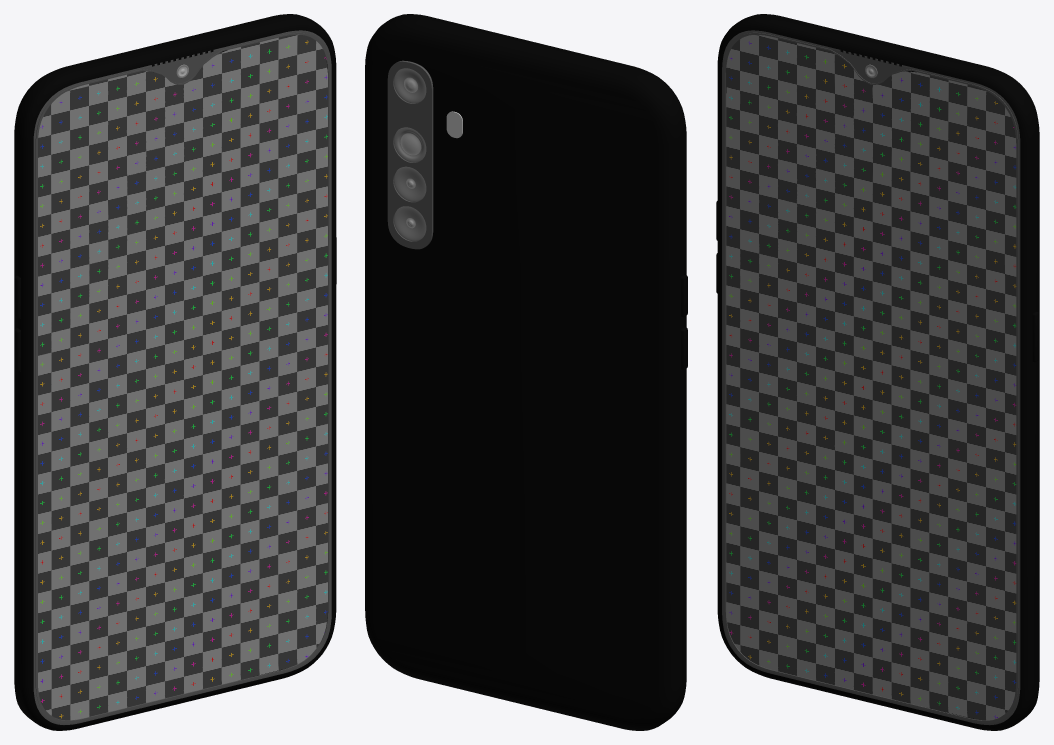
Rendered from phone _2.glb.
The picture shows the model from 3 angles, left to right: view 1: azimuth 30°, elevation 25°; view 2: azimuth 150°, elevation 25°; view 3: azimuth 330°, elevation 25°; orthographic projection.
Parts seen in each view (by area): view 1: Phone_0; view 2: Phone_0; view 3: Phone_0.
Part boxes in pixels (x1,y1,x2,y2): Phone_0: (14,14,336,730); Phone_0: (365,14,687,730); Phone_0: (716,14,1039,730).
Size of the model in its own units: 0.097 by 0.1905 by 0.0104.
Materials: 8 (1 with a texture image).
